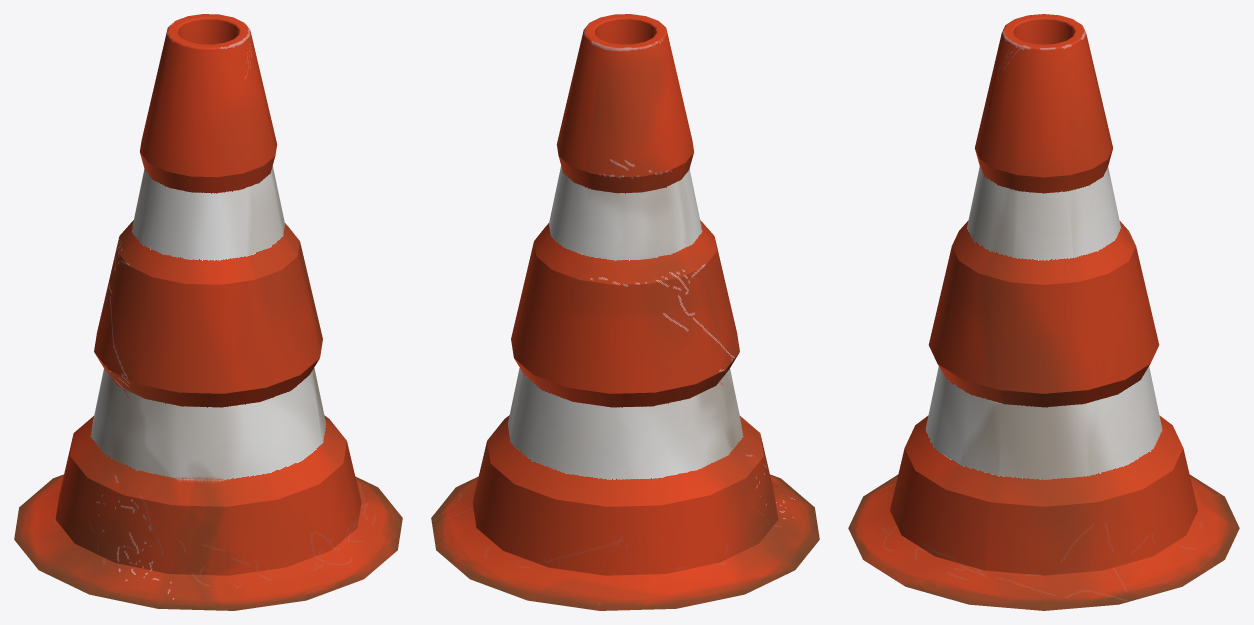
Rendered from traffic-cone.glb.
3 views of the same model, side by side, from view 1: azimuth 30°, elevation 25°; view 2: azimuth 150°, elevation 25°; view 3: azimuth 270°, elevation 25° (orthographic).
Visible parts, largest first — view 1: traffic_cone_0; view 2: traffic_cone_0; view 3: traffic_cone_0.
Boxes of the visible parts, bbox=[...] form: traffic_cone_0: bbox=[14, 14, 402, 610]; traffic_cone_0: bbox=[431, 14, 819, 610]; traffic_cone_0: bbox=[848, 14, 1239, 610].
Bounding box in the file's own units: 1.43 × 2 × 1.43.
Materials: 1 (1 with a texture image).
